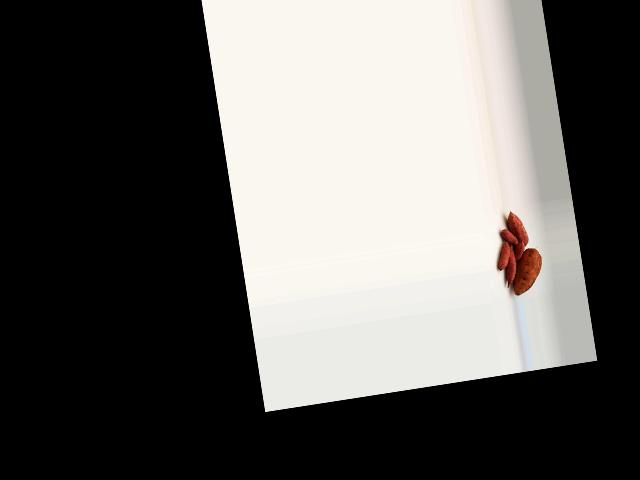sweet_potato: (505, 208, 529, 247)
